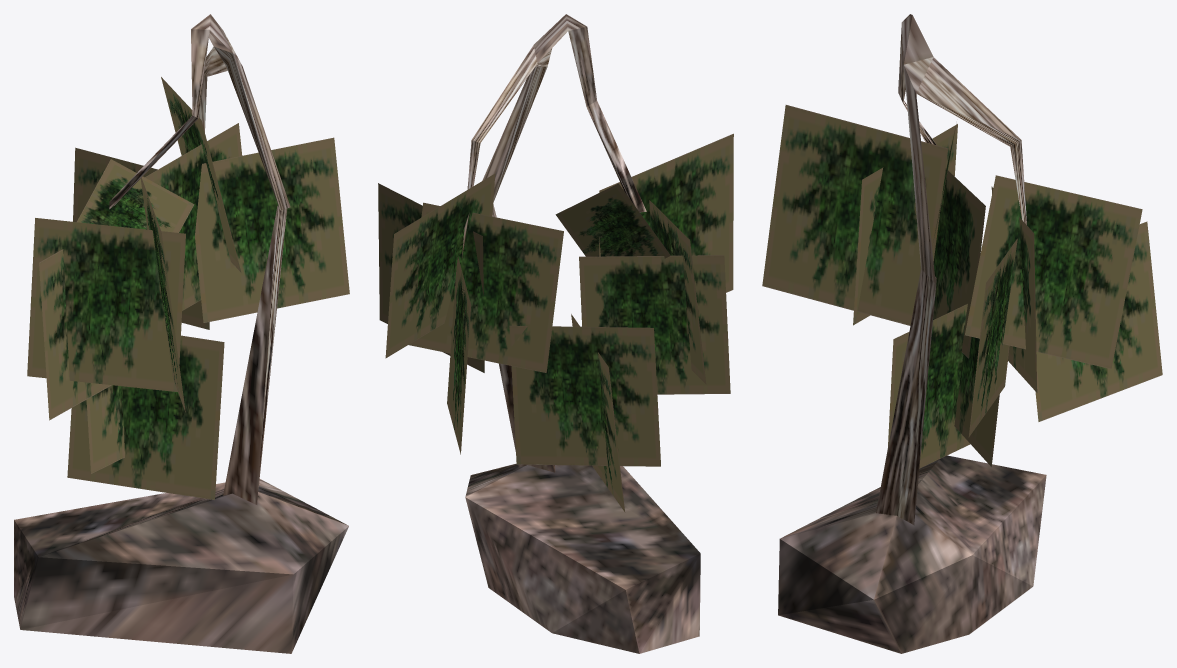
The model's file is frn_all_plant_potted_lg_s4_l2.fbx.
The picture shows the model from 3 angles, left to right: view 1: azimuth 30°, elevation 25°; view 2: azimuth 150°, elevation 25°; view 3: azimuth 270°, elevation 25°; orthographic projection. The views are drawn at different scales.
Visible parts, largest first — view 1: mesh_node; view 2: mesh_node; view 3: mesh_node.
Boxes of the visible parts, x1=… form: mesh_node: x1=14, y1=14, x2=349, y2=653; mesh_node: x1=378, y1=14, x2=733, y2=653; mesh_node: x1=762, y1=14, x2=1162, y2=653.
Bounding box in the file's own units: 1.03 × 1.73 × 1.06.
2 materials, 2 textured.
